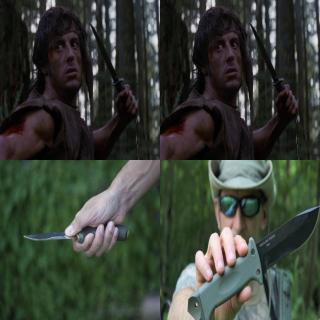knife: (184, 195, 320, 319), (86, 18, 140, 114), (247, 18, 300, 114), (18, 219, 118, 259)
